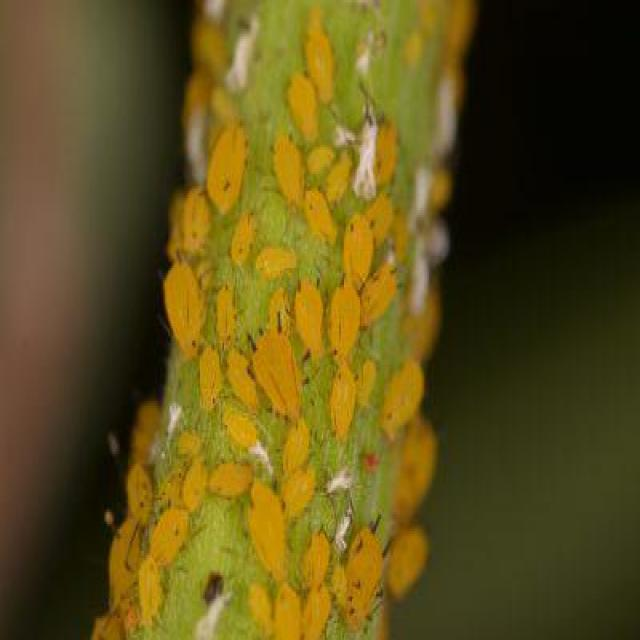Aphids: (243, 312, 310, 432), (239, 472, 294, 586), (160, 253, 213, 364), (323, 268, 380, 370), (202, 115, 252, 224), (341, 515, 388, 628), (377, 351, 434, 444), (258, 114, 310, 209), (286, 272, 330, 364), (221, 338, 264, 420), (323, 354, 359, 446), (148, 502, 195, 570), (132, 552, 171, 632), (194, 336, 225, 424), (224, 202, 262, 271), (249, 240, 307, 284)
